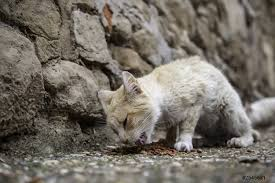cat: (87, 51, 264, 158)
